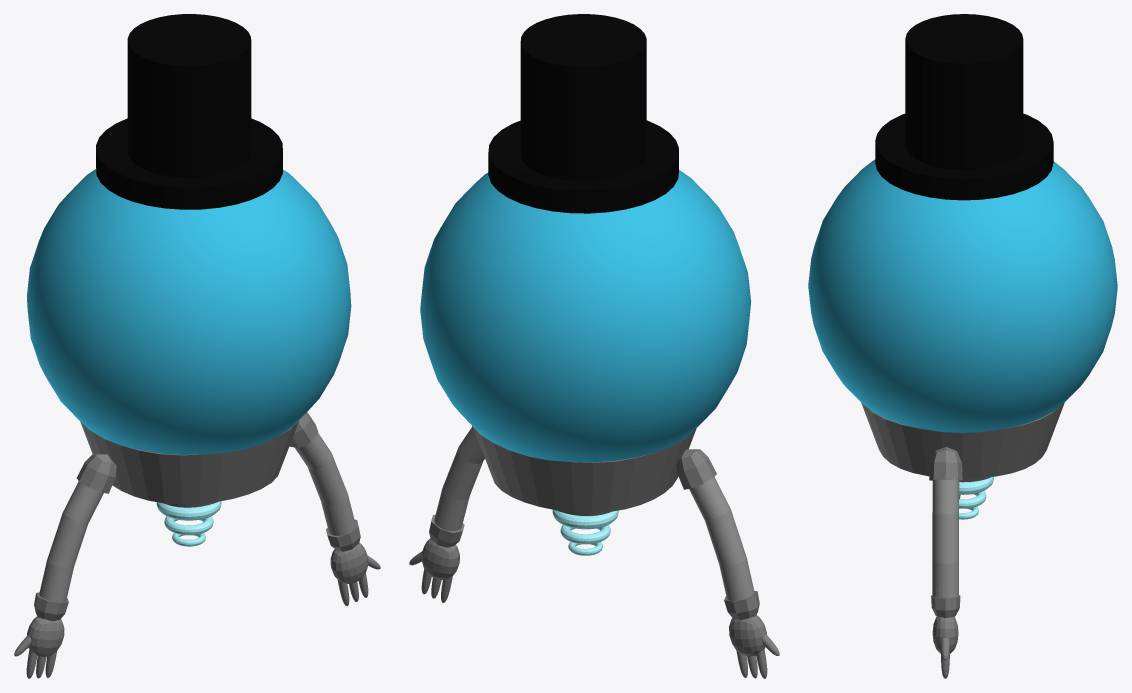
The model's file is fish.gltf.
The picture shows the model from 3 angles, left to right: view 1: azimuth 30°, elevation 25°; view 2: azimuth 150°, elevation 25°; view 3: azimuth 270°, elevation 25°; orthographic projection. The views are drawn at different scales.
Visible parts, largest first — view 1: Cube.001; view 2: Cube.001; view 3: Cube.001.
Boxes of the visible parts, x1,y1,x2,y2 form: Cube.001: (14,14,380,678); Cube.001: (409,14,779,678); Cube.001: (808,14,1117,678).
Bounding box in the file's own units: 3.61 × 5.64 × 2.79.
